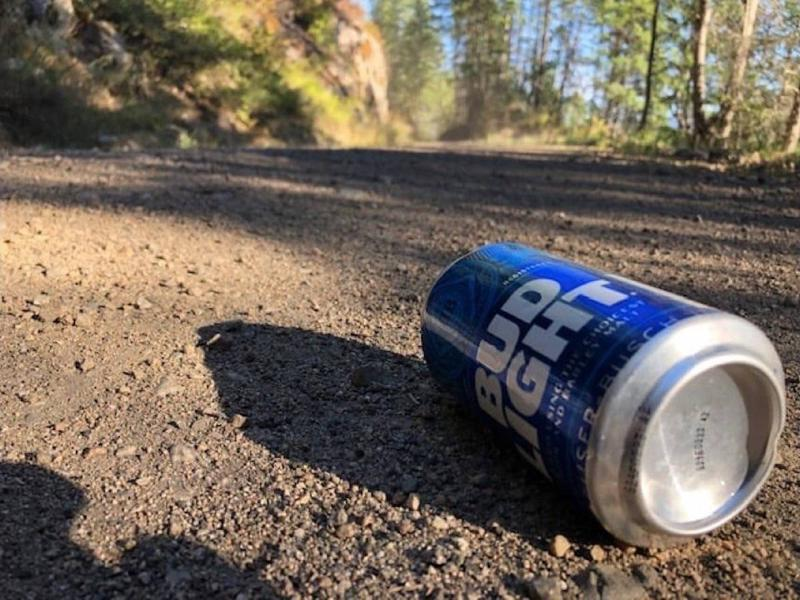can: (417, 239, 790, 552)
